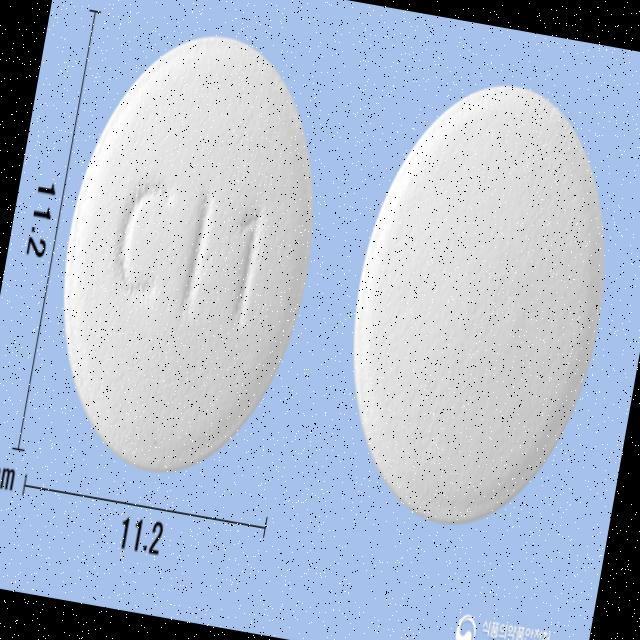Ciprocell: (317, 61, 640, 554), (28, 12, 350, 502)
